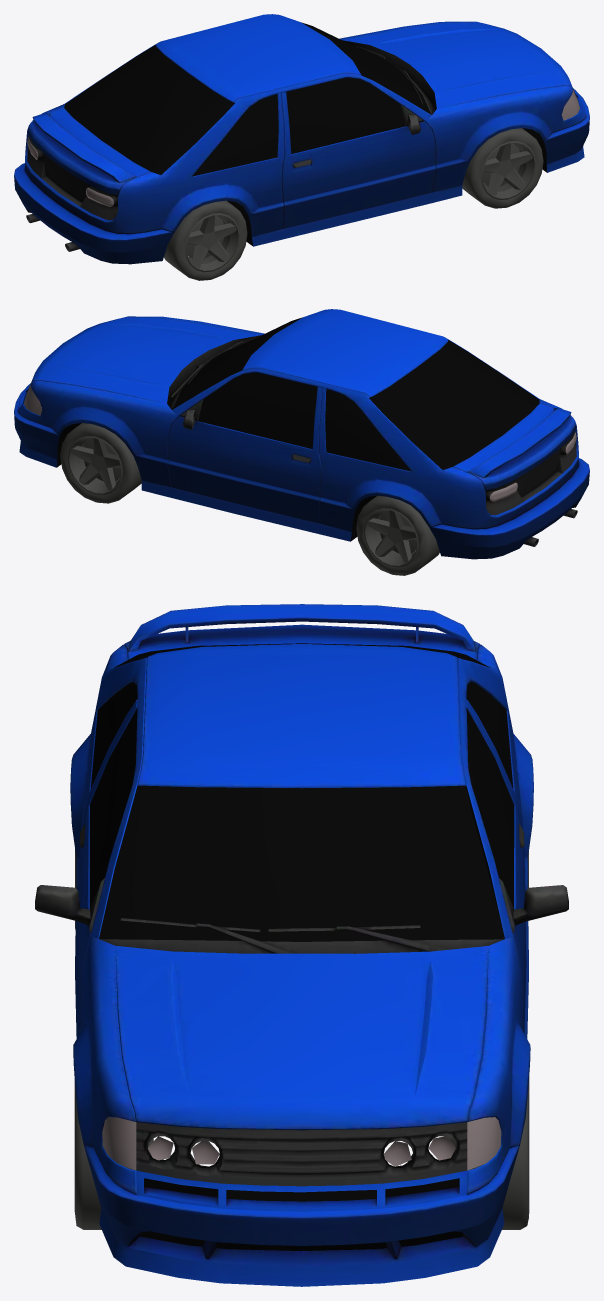
Rendered from pc-coupe.lod0.glb.
3 views of the same model, one above another, from view 1: azimuth 30°, elevation 25°; view 2: azimuth 150°, elevation 25°; view 3: azimuth 270°, elevation 25° (orthographic). The views are drawn at different scales.
Visible parts, largest first — view 1: Coupe Body_Body_0, Coupe Body_Glass_0; view 2: Coupe Body_Body_0, Coupe Body_Glass_0; view 3: Coupe Body_Body_0, Coupe Body_Glass_0.
Boxes of the visible parts, x1=… form: Coupe Body_Body_0: x1=14, y1=14, x2=589, y2=264; Coupe Body_Glass_0: x1=27, y1=22, x2=579, y2=280; Coupe Body_Body_0: x1=14, y1=309, x2=589, y2=559; Coupe Body_Glass_0: x1=24, y1=317, x2=576, y2=575; Coupe Body_Body_0: x1=35, y1=604, x2=568, y2=1286; Coupe Body_Glass_0: x1=74, y1=643, x2=529, y2=1229.
Size of the model in its own units: 4.24 by 1.28 by 1.88.
2 materials, 1 textured.
